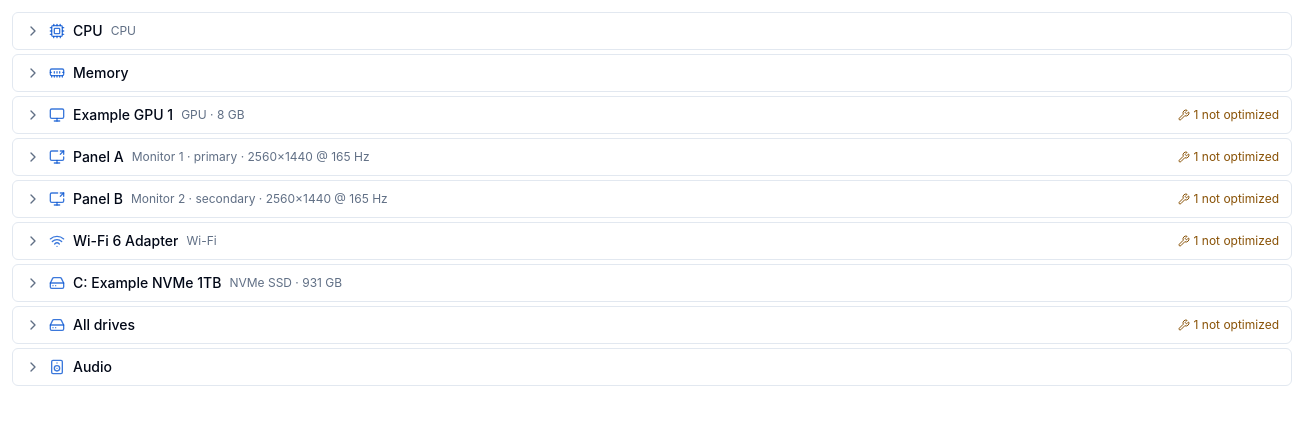
Test: DeviceList › shows no rows until a device is selected, then exactly that device's rows
The width and height of the screenshot is (1304, 444).
Click the button "Panel B": (98, 198) [13, 181, 1291, 217]
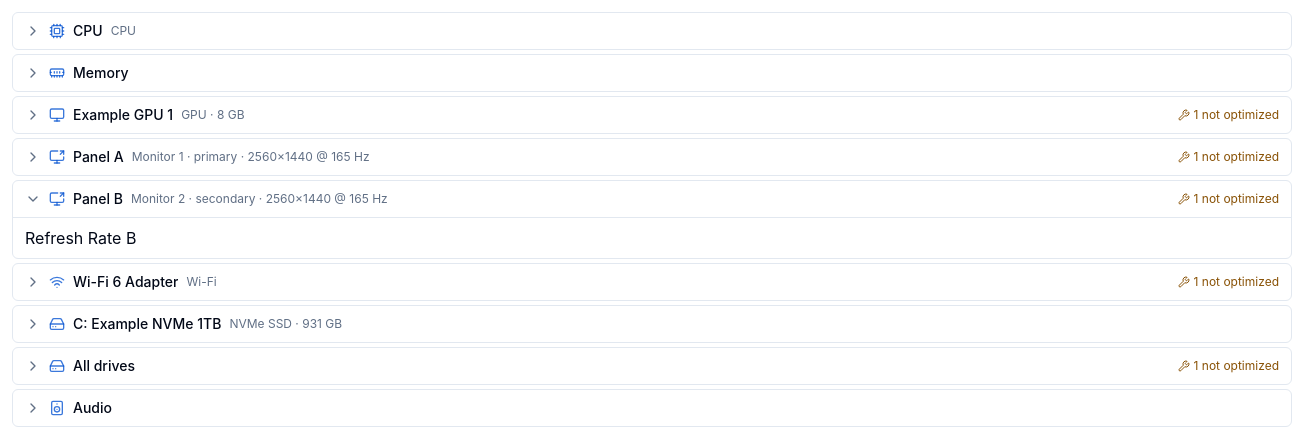
Check: the list item "Refresh Rate B" is shown, box [25, 228, 136, 248]
Click the button "Wi-Fi 6 Adapter Wi-Fi 1 not optimized": (126, 282) [13, 264, 1291, 300]
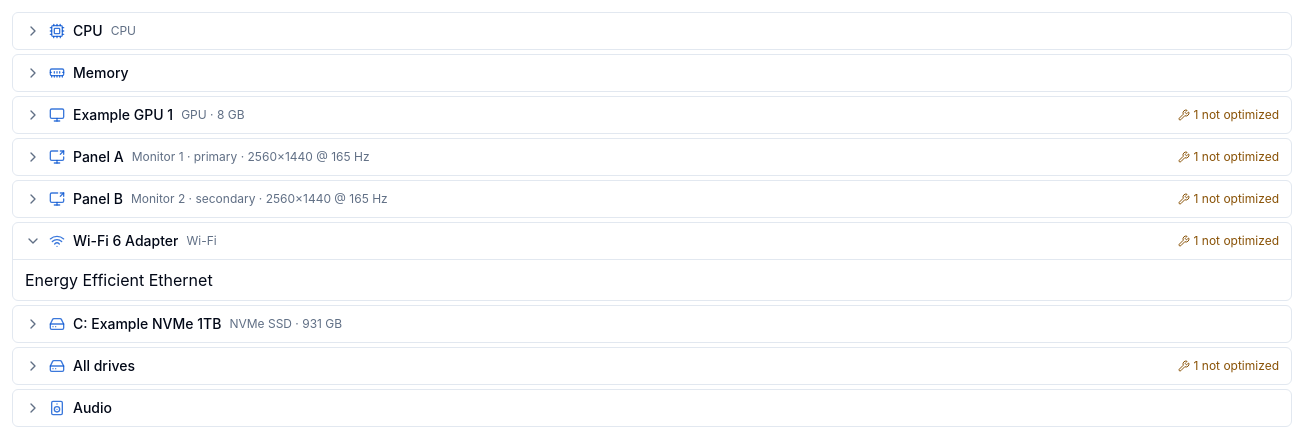
Check: the list item "Energy Efficient Ethernet" is shown, box [25, 270, 213, 290]
Check: the list item "Refresh Rate B" is gone
